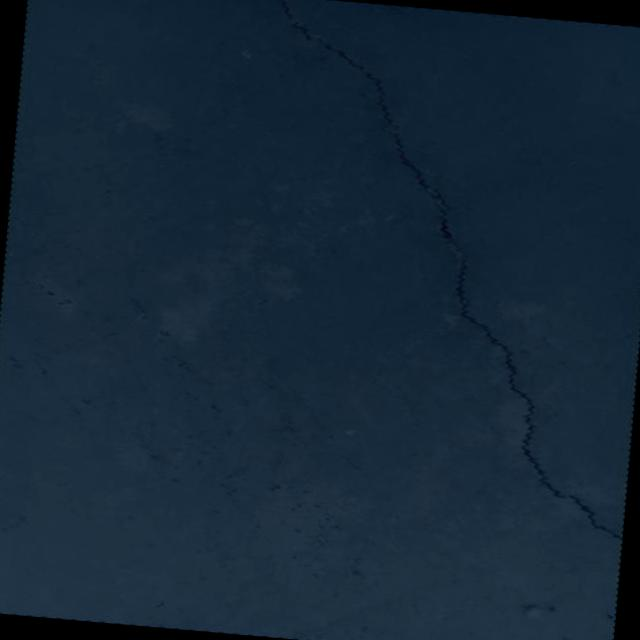crack: (435, 257, 640, 538), (266, 0, 408, 129), (373, 124, 462, 242)
